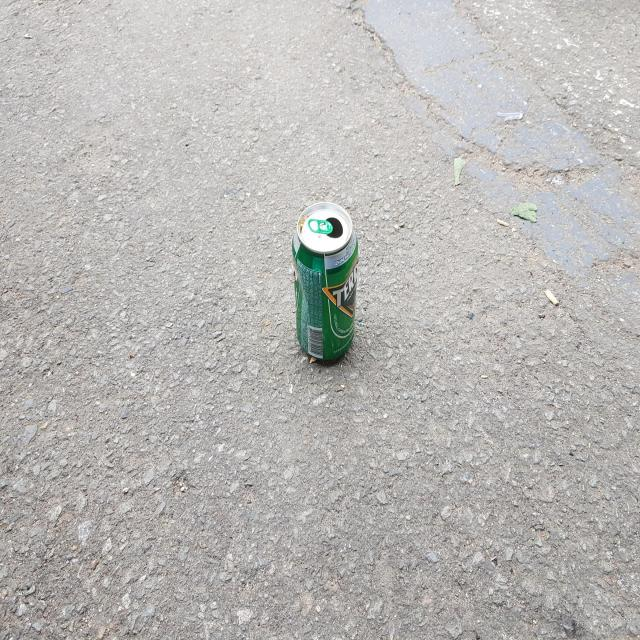can: (292, 201, 359, 360)
